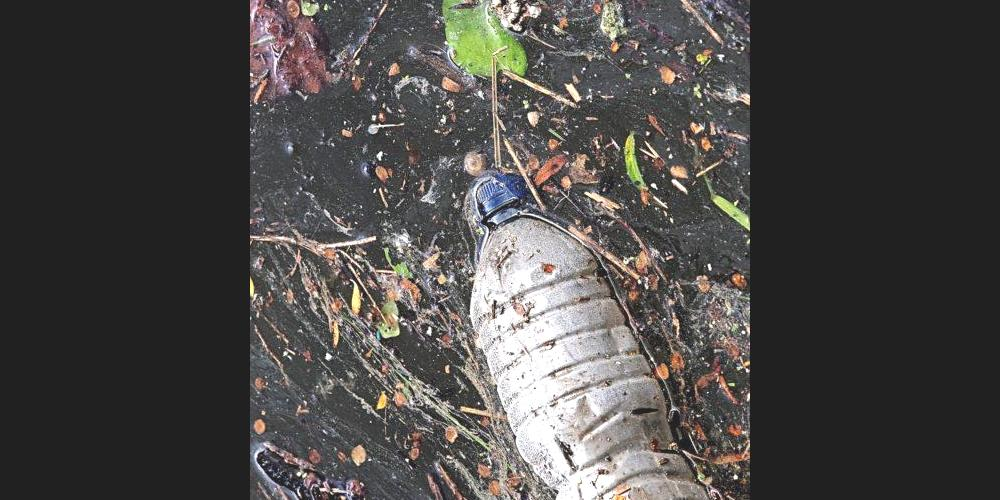bottle: (445, 162, 750, 500)
